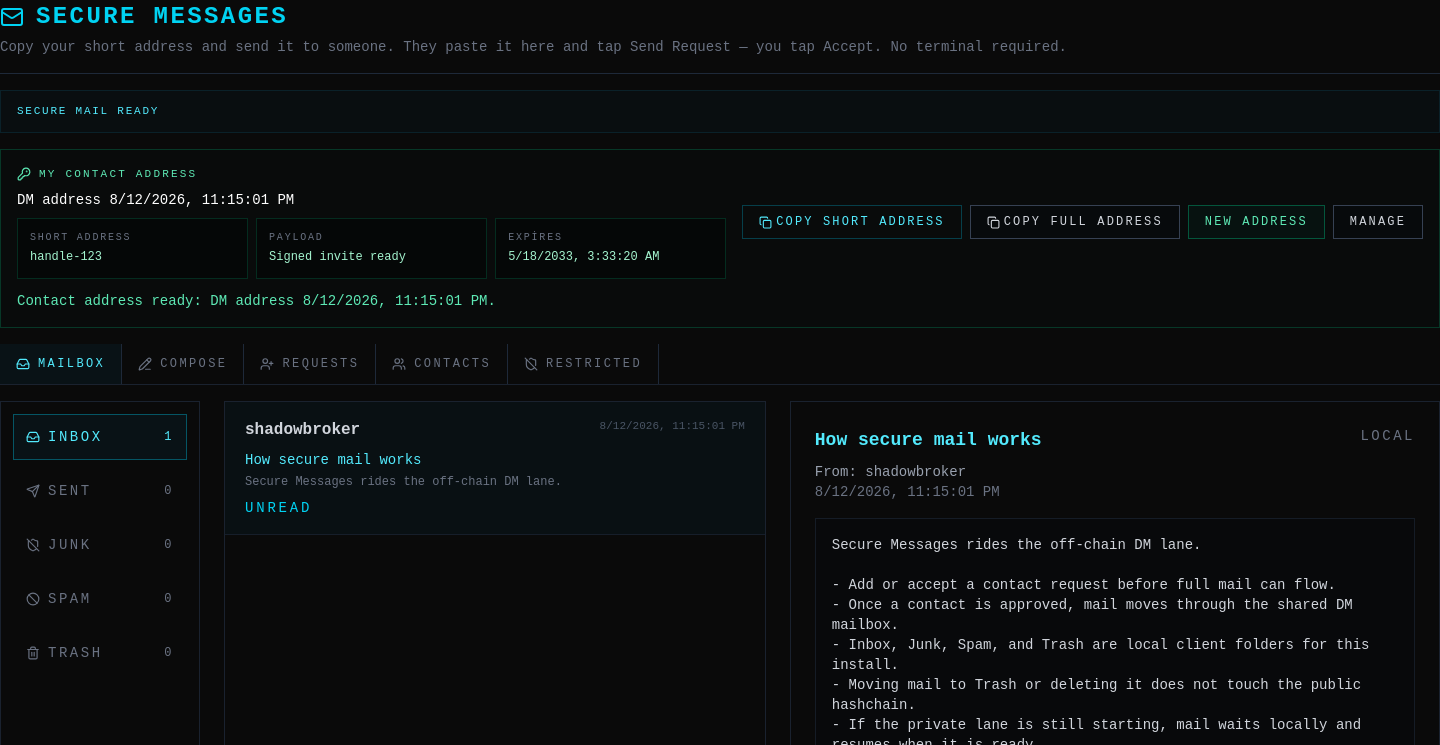
MessagesView first-contact trust UX › shows an import-invite shortcut for unpinned contacts in the contact list
This screenshot has width=1440, height=745.
Click the button "CONTACTS": coordinates (442, 364) [376,344,508,384]
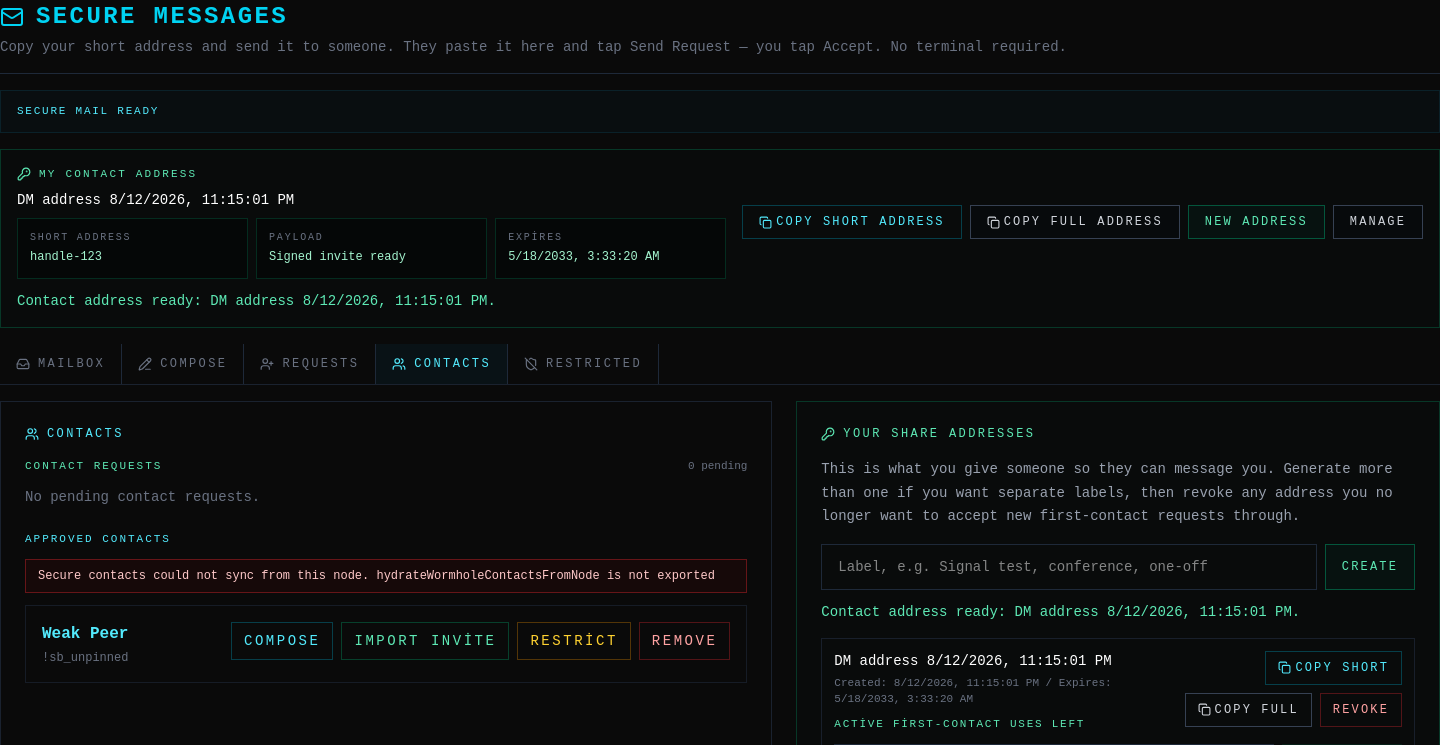
Click the button "Import Invite": coordinates (426, 641) [342,622,510,660]
(page scrolled)
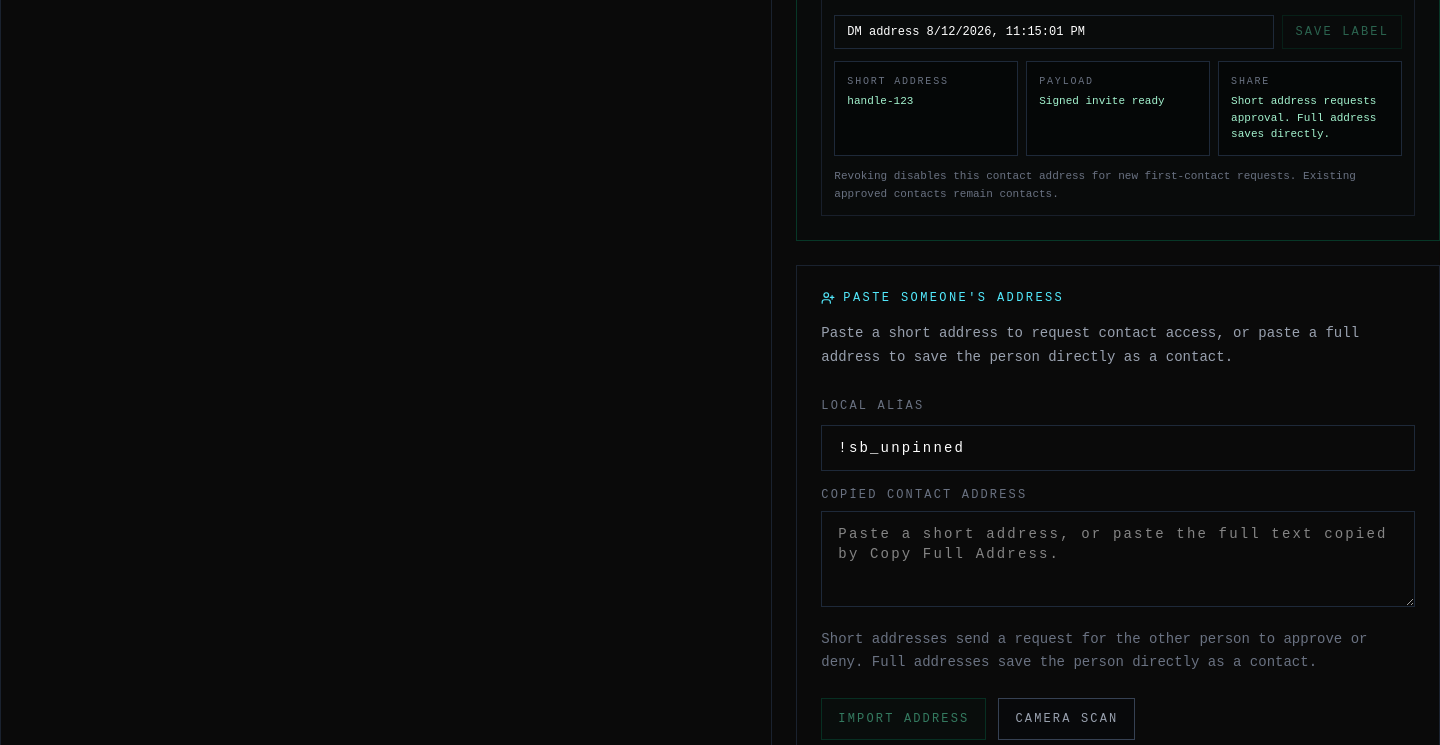
Expected: the field labelled "Local Alias" holds "!sb_unpinned", [821,425,1415,471]
